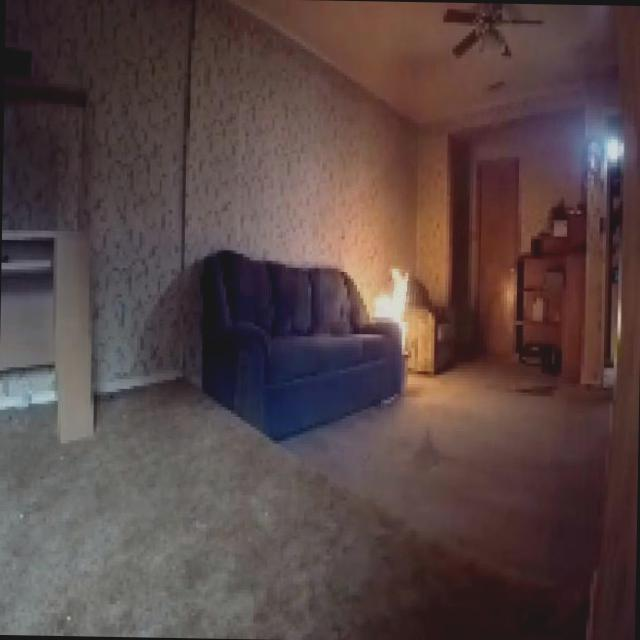fire: (364, 260, 418, 342)
